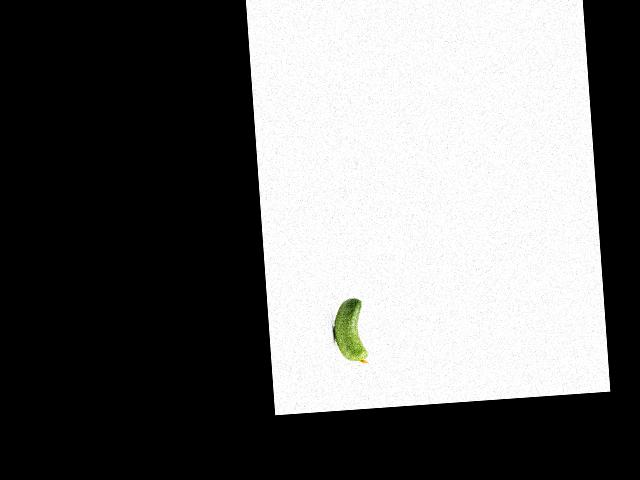cucumber: (331, 296, 368, 366)
